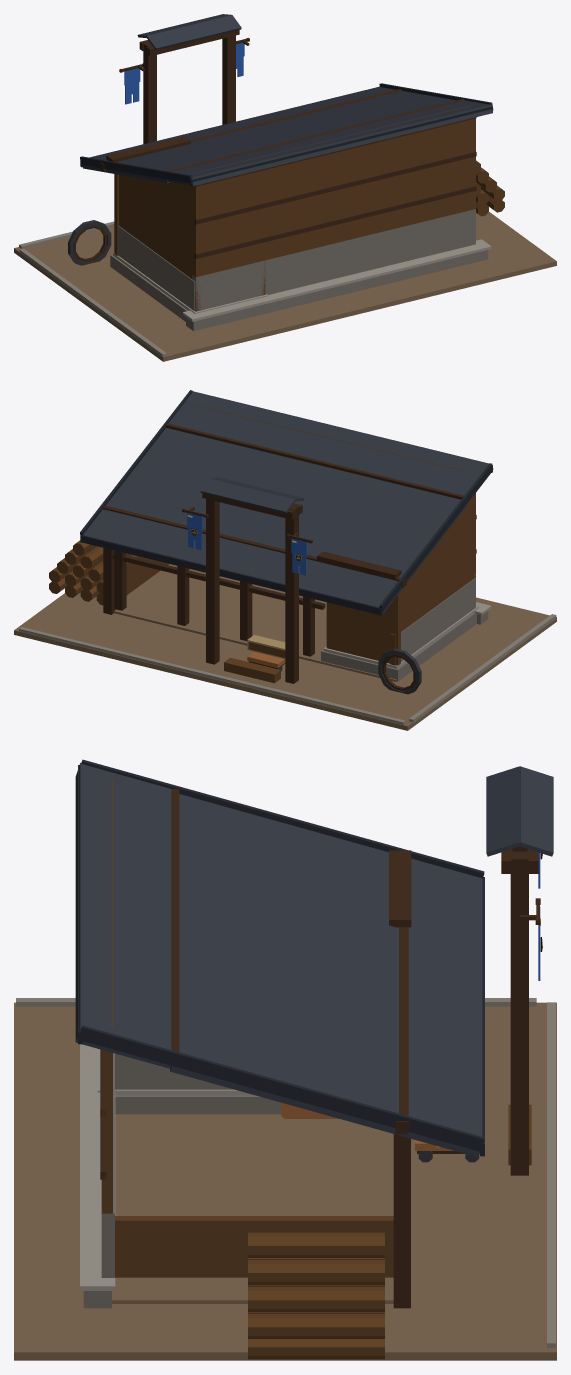
The model's file is 伐木场_手游_远.glb.
The picture shows the model from 3 angles, top to bottom: view 1: azimuth 30°, elevation 25°; view 2: azimuth 150°, elevation 25°; view 3: azimuth 270°, elevation 25°; orthographic projection. The views are drawn at different scales.
Visible parts, largest first — view 1: LM-主体, LM-team; view 2: LM-主体, LM-team; view 3: LM-主体.
Boxes of the visible parts, left/top/right/bottom form: LM-主体: left=14, top=14, right=556, bottom=361; LM-team: left=124, top=42, right=244, bottom=104; LM-主体: left=14, top=390, right=556, bottom=730; LM-team: left=187, top=513, right=307, bottom=575; LM-主体: left=14, top=759, right=556, bottom=1360.
Size of the model in its own units: 16.81 by 7.69 by 10.7.
4 materials, 2 textured.
